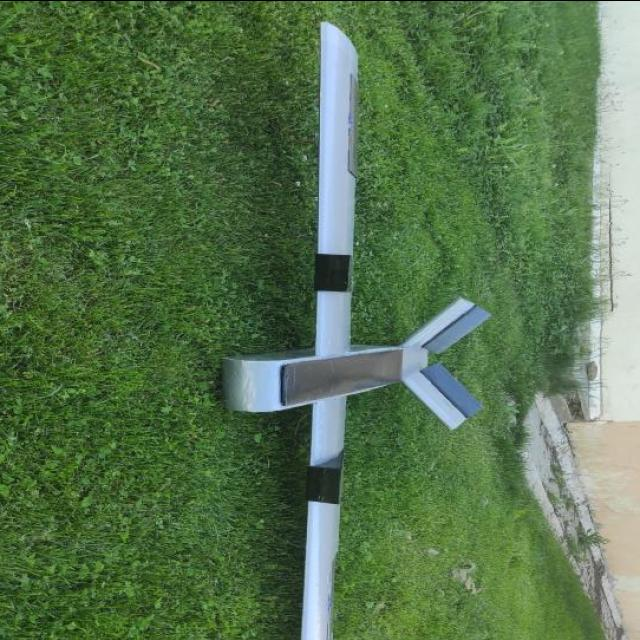plane: (220, 17, 494, 640)
